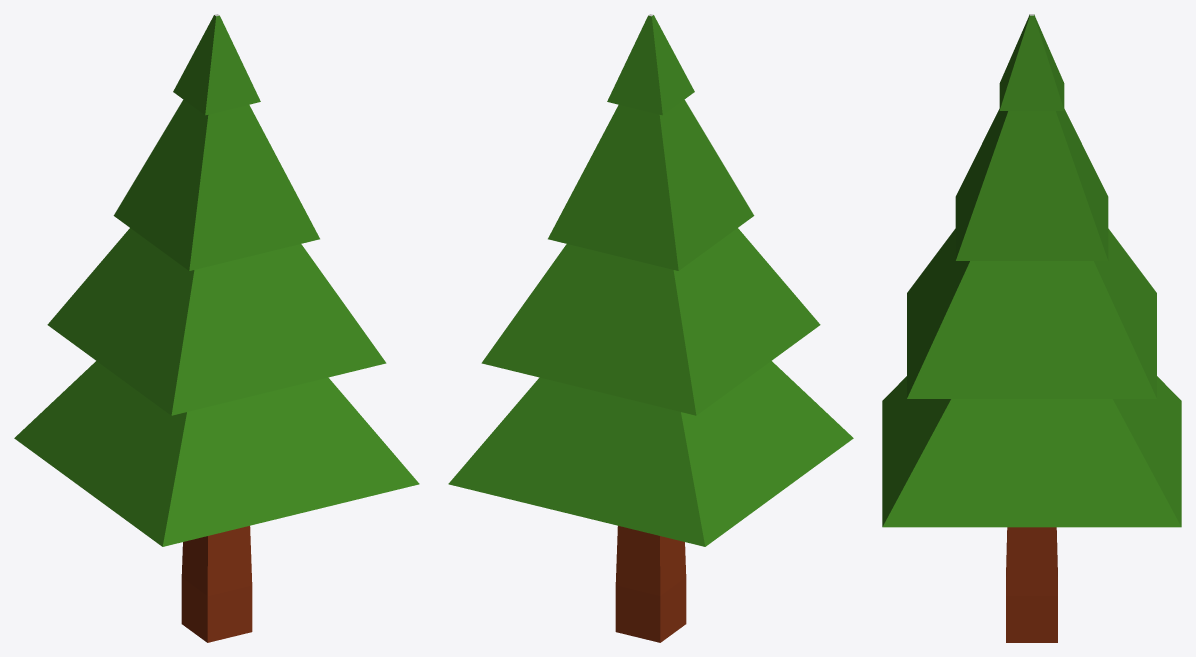
File: tree2.fbx
3 renders of one model, left to right at view 1: azimuth 30°, elevation 25°; view 2: azimuth 150°, elevation 25°; view 3: azimuth 270°, elevation 25°, orthographic.
Visible parts, largest first — view 1: Cube; view 2: Cube; view 3: Cube.
Boxes of the visible parts, x1,y1,x2,y2 form: Cube: (14, 14, 419, 642); Cube: (448, 14, 853, 642); Cube: (882, 14, 1181, 642).
Size of the model in its own units: 405 by 923 by 405.
